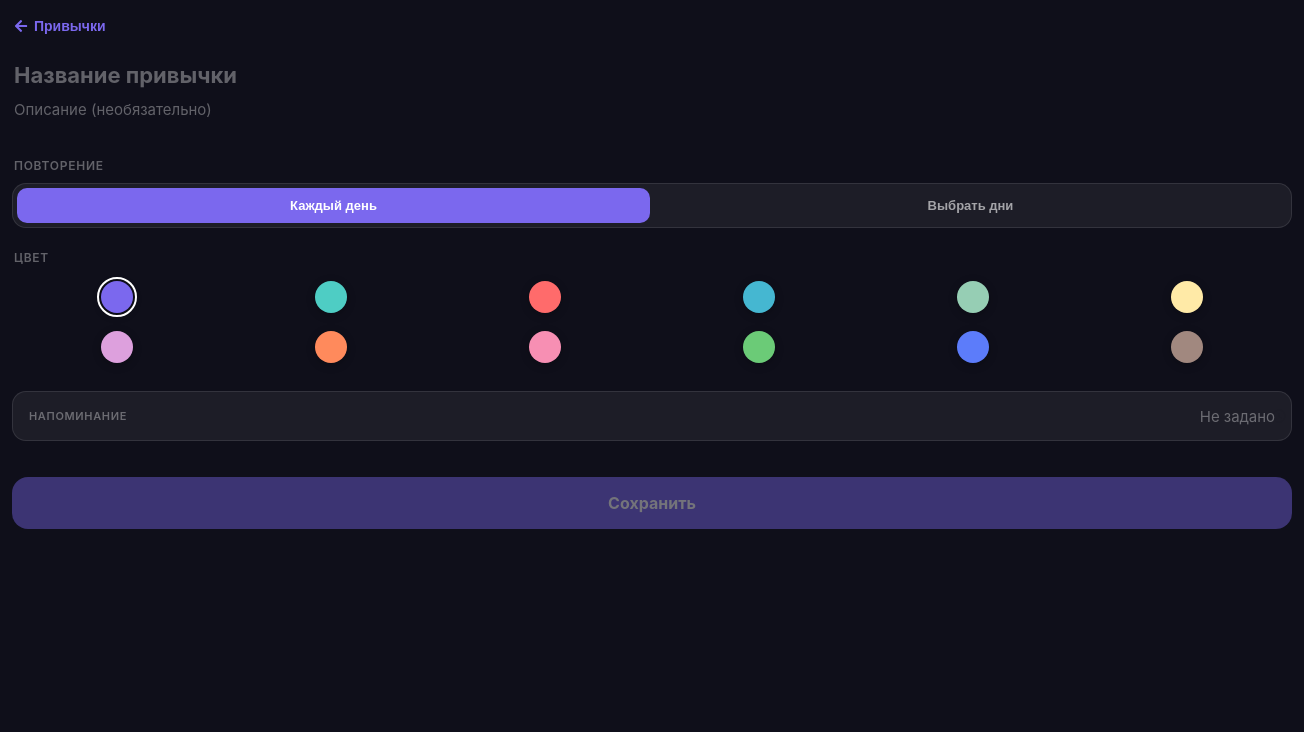
Test: save needs a name, and on chosen days at least one day
Check: the button "Сохранить" is disabled, box [12,477,1292,529]
In the field with placeholder "Название привычки": (652, 75) [12,62,1292,88], type "Run"
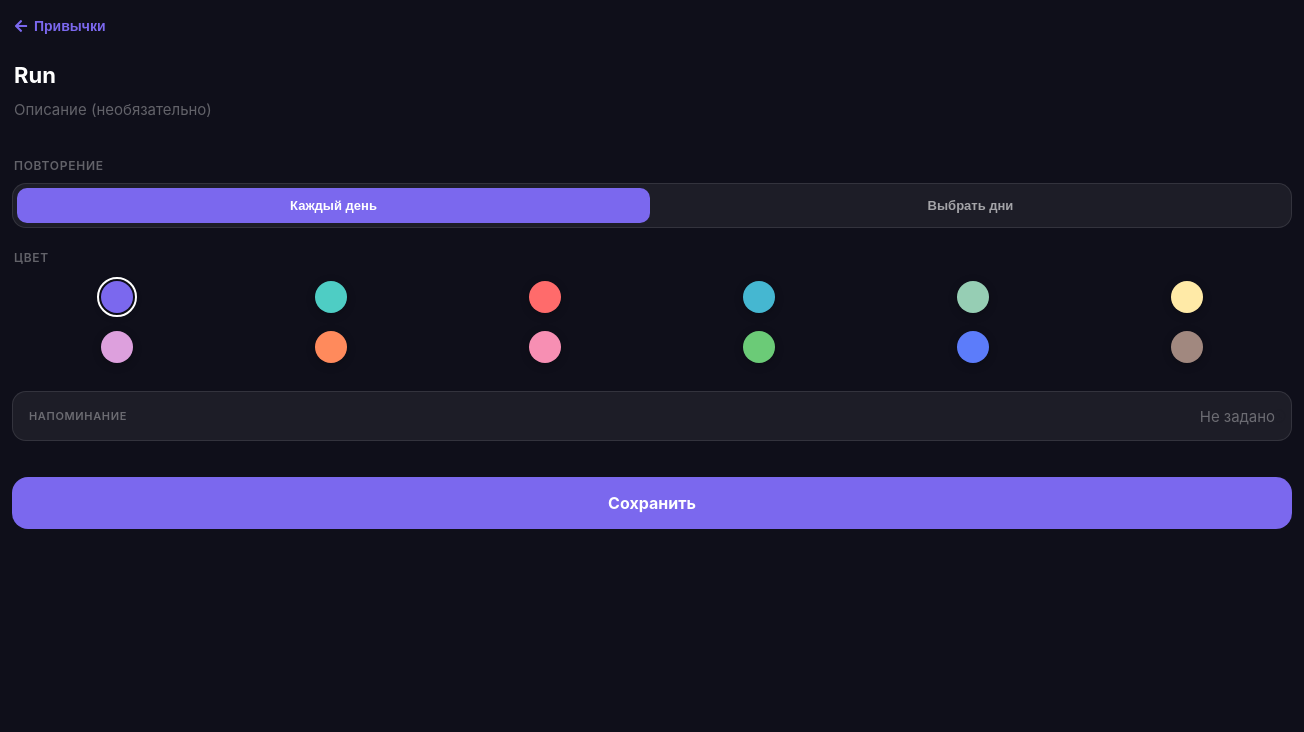
Check: the button "Сохранить" is enabled, box [12,477,1292,529]
Click the button "Выбрать дни": (970, 206) [654,188,1287,223]
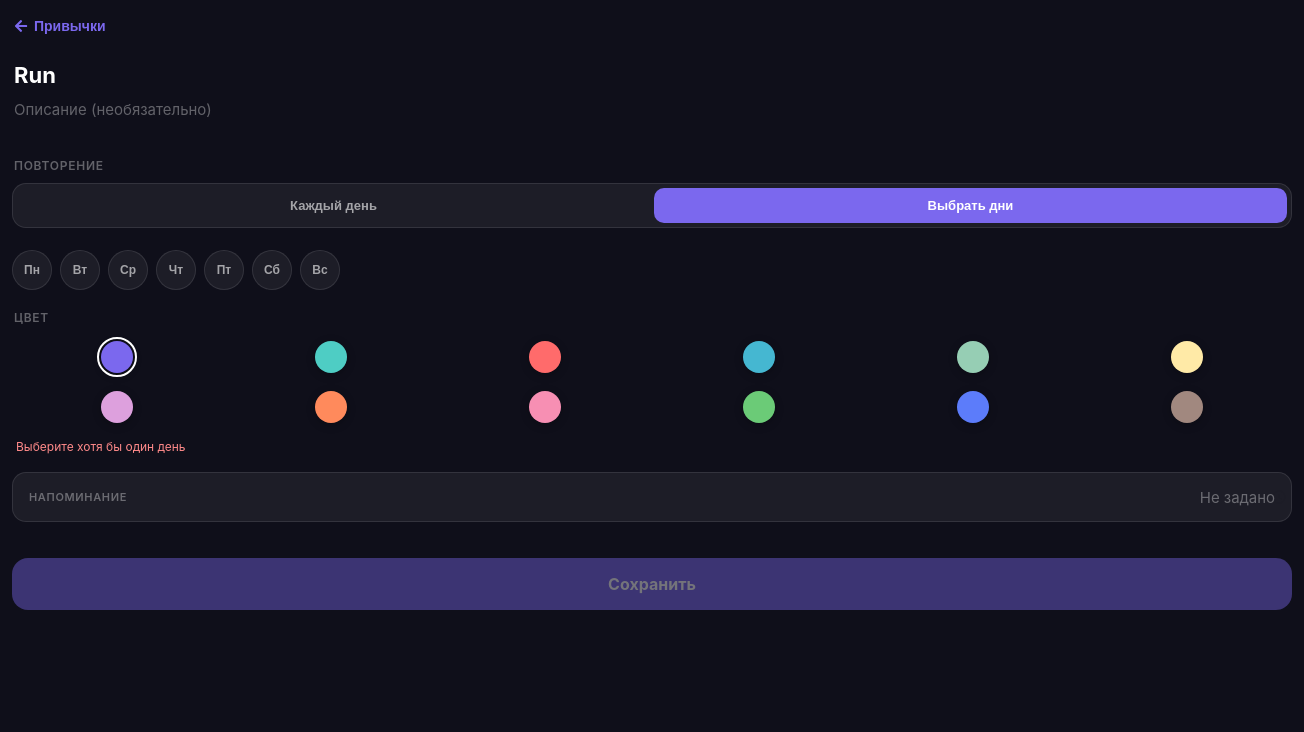
Check: the button "Сохранить" is disabled, box [12,558,1292,610]
Check: the text "Выберите хотя бы один день" is shown, box [16,439,186,454]
Click the button "Ср": (128, 270) [108,250,148,290]
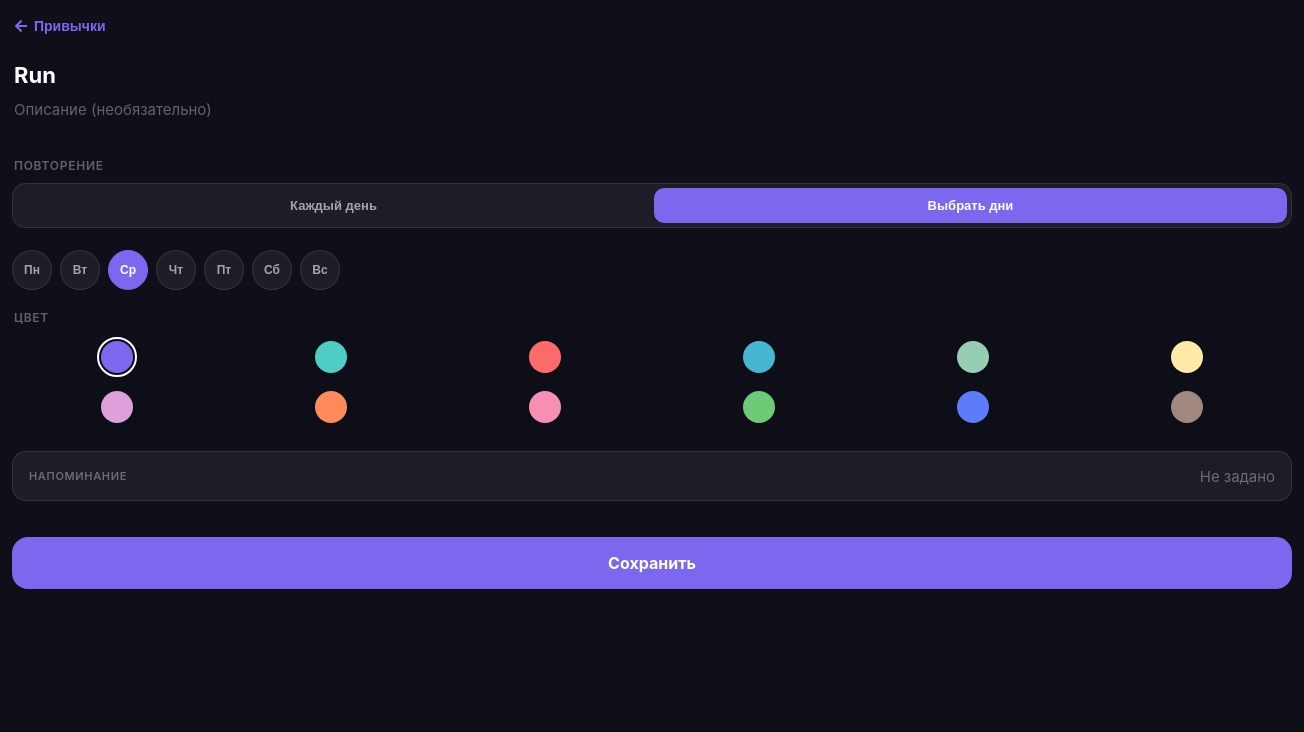
Check: the time field labelled "НАПОМИНАНИЕ" is empty, box [13,452,1291,500]
Check: the button "Сохранить" is enabled, box [12,537,1292,589]
